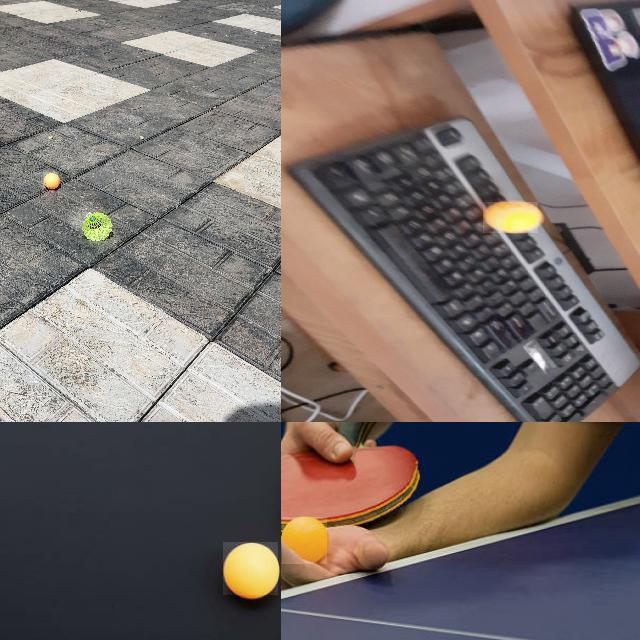ping-pong-ball: (223, 542, 279, 596), (282, 517, 328, 565), (482, 202, 540, 234), (43, 172, 59, 188)
